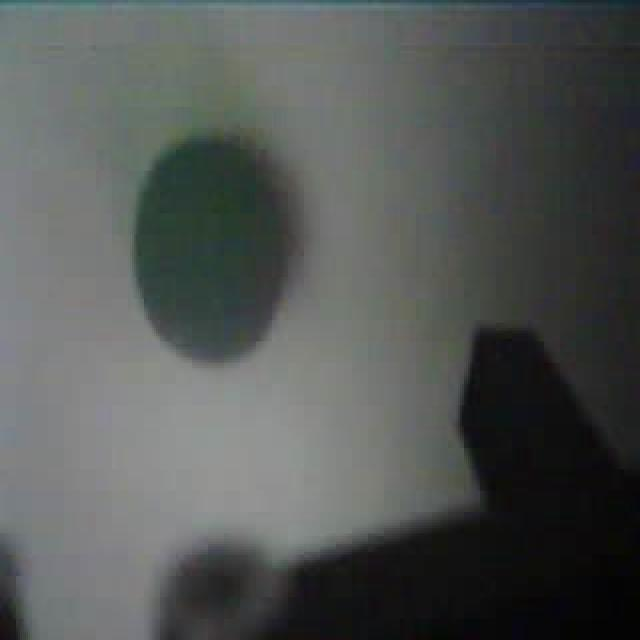green_ball: (128, 123, 298, 368)
